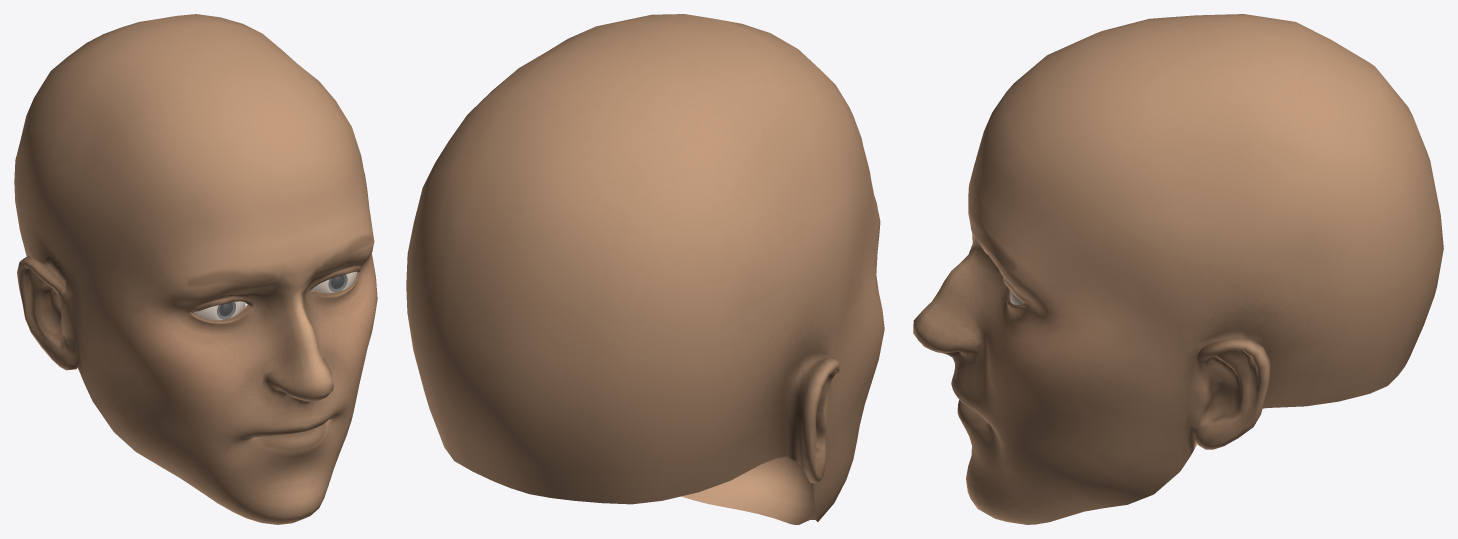
The model's file is TestMocapFace.fbx.
The picture shows the model from 3 angles, left to right: view 1: azimuth 30°, elevation 25°; view 2: azimuth 150°, elevation 25°; view 3: azimuth 270°, elevation 25°; orthographic projection. The views are drawn at different scales.
Parts seen in each view (by area): view 1: head, eyeLeft, eyeRight; view 2: head; view 3: head.
Boxes of the visible parts, x1,y1,x2,y2 form: head: (14, 14, 377, 524); eyeLeft: (193, 301, 245, 320); eyeRight: (311, 271, 357, 292); head: (406, 14, 884, 524); head: (913, 14, 1443, 524).
Bounding box in the file's own units: 18.3 × 23.53 × 23.57.
